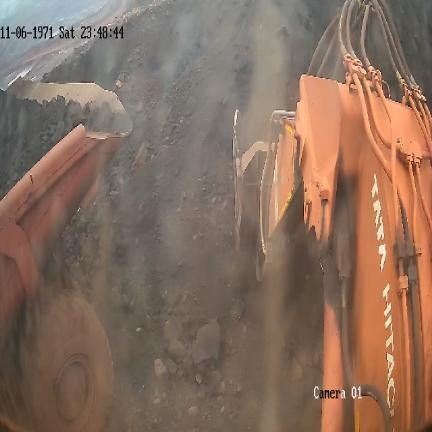pile: (65, 0, 324, 432), (0, 90, 94, 198)
